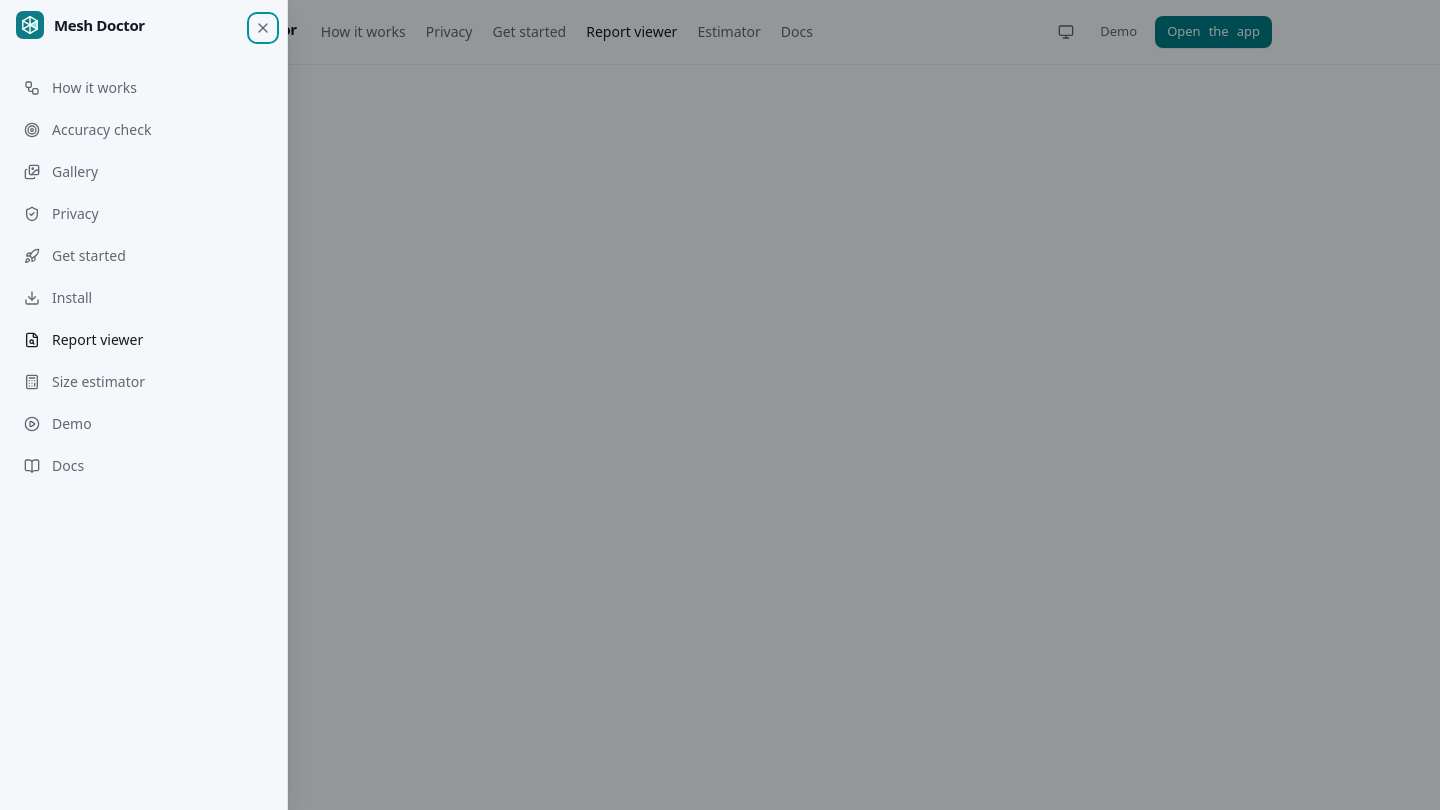
Test: public header › has a menu with every link for small screens, which closes when one is picked
Earlier steps of the test are not shown.
Click the link "Report viewer" at (144, 340), box top-left (12, 320), bottom-right (275, 360)
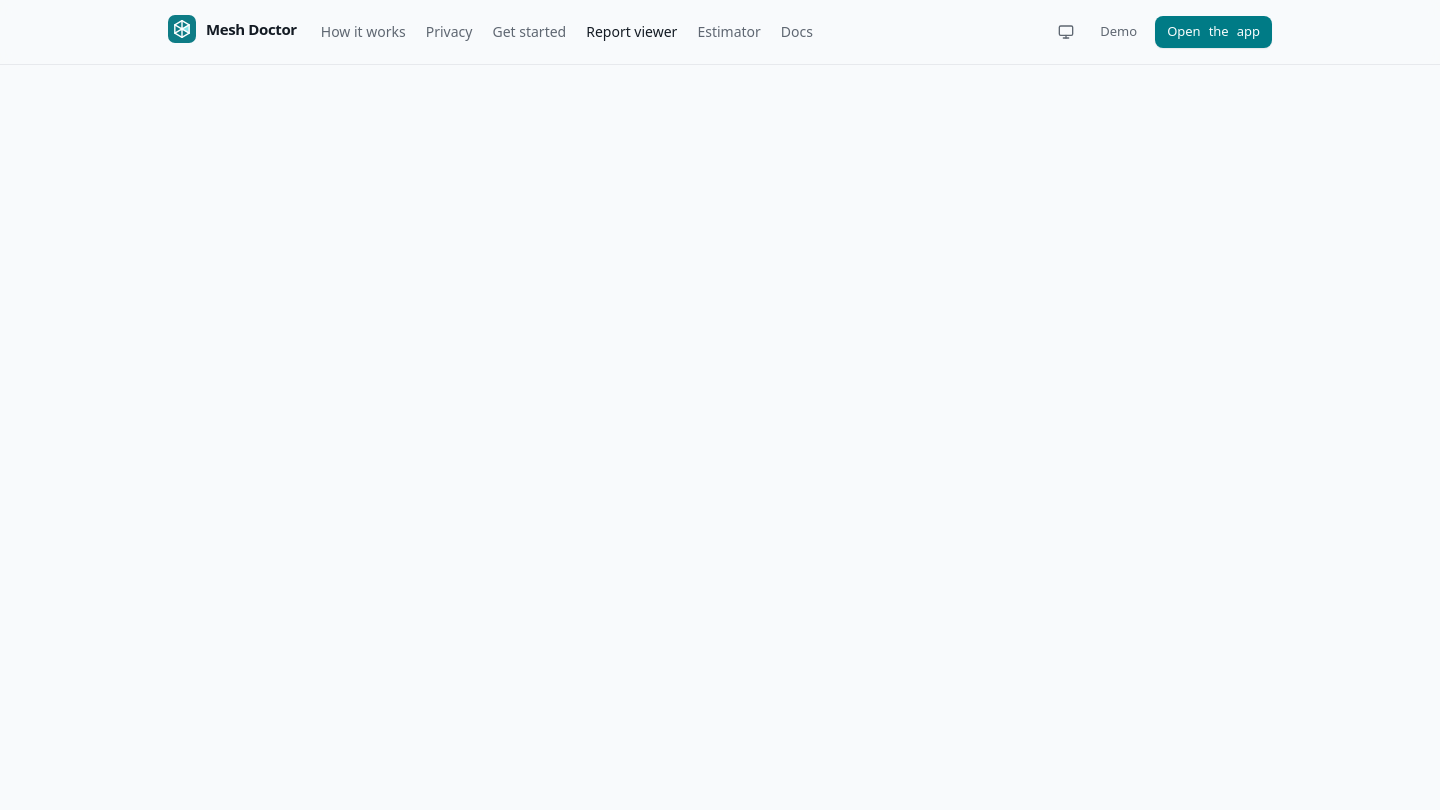
Expected: the dialog is gone
